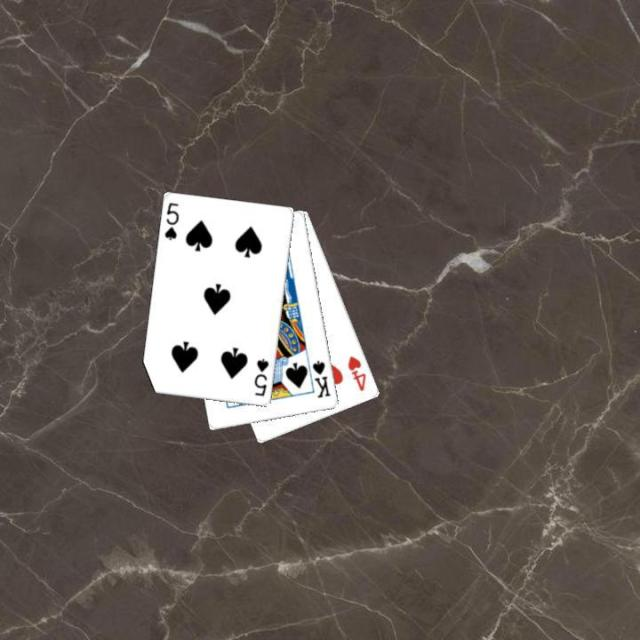4H: (344, 352, 368, 393)
5S: (161, 199, 181, 243), (251, 355, 271, 398)
KS: (308, 356, 332, 400)
